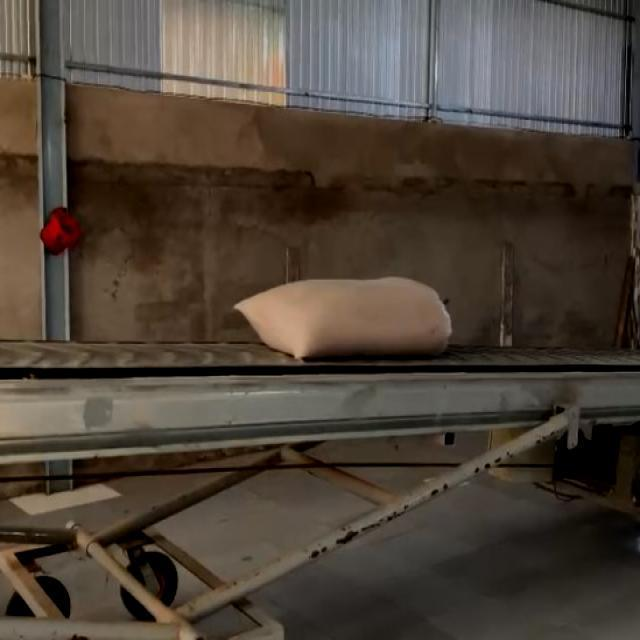gunny_bag: (234, 277, 452, 359)
